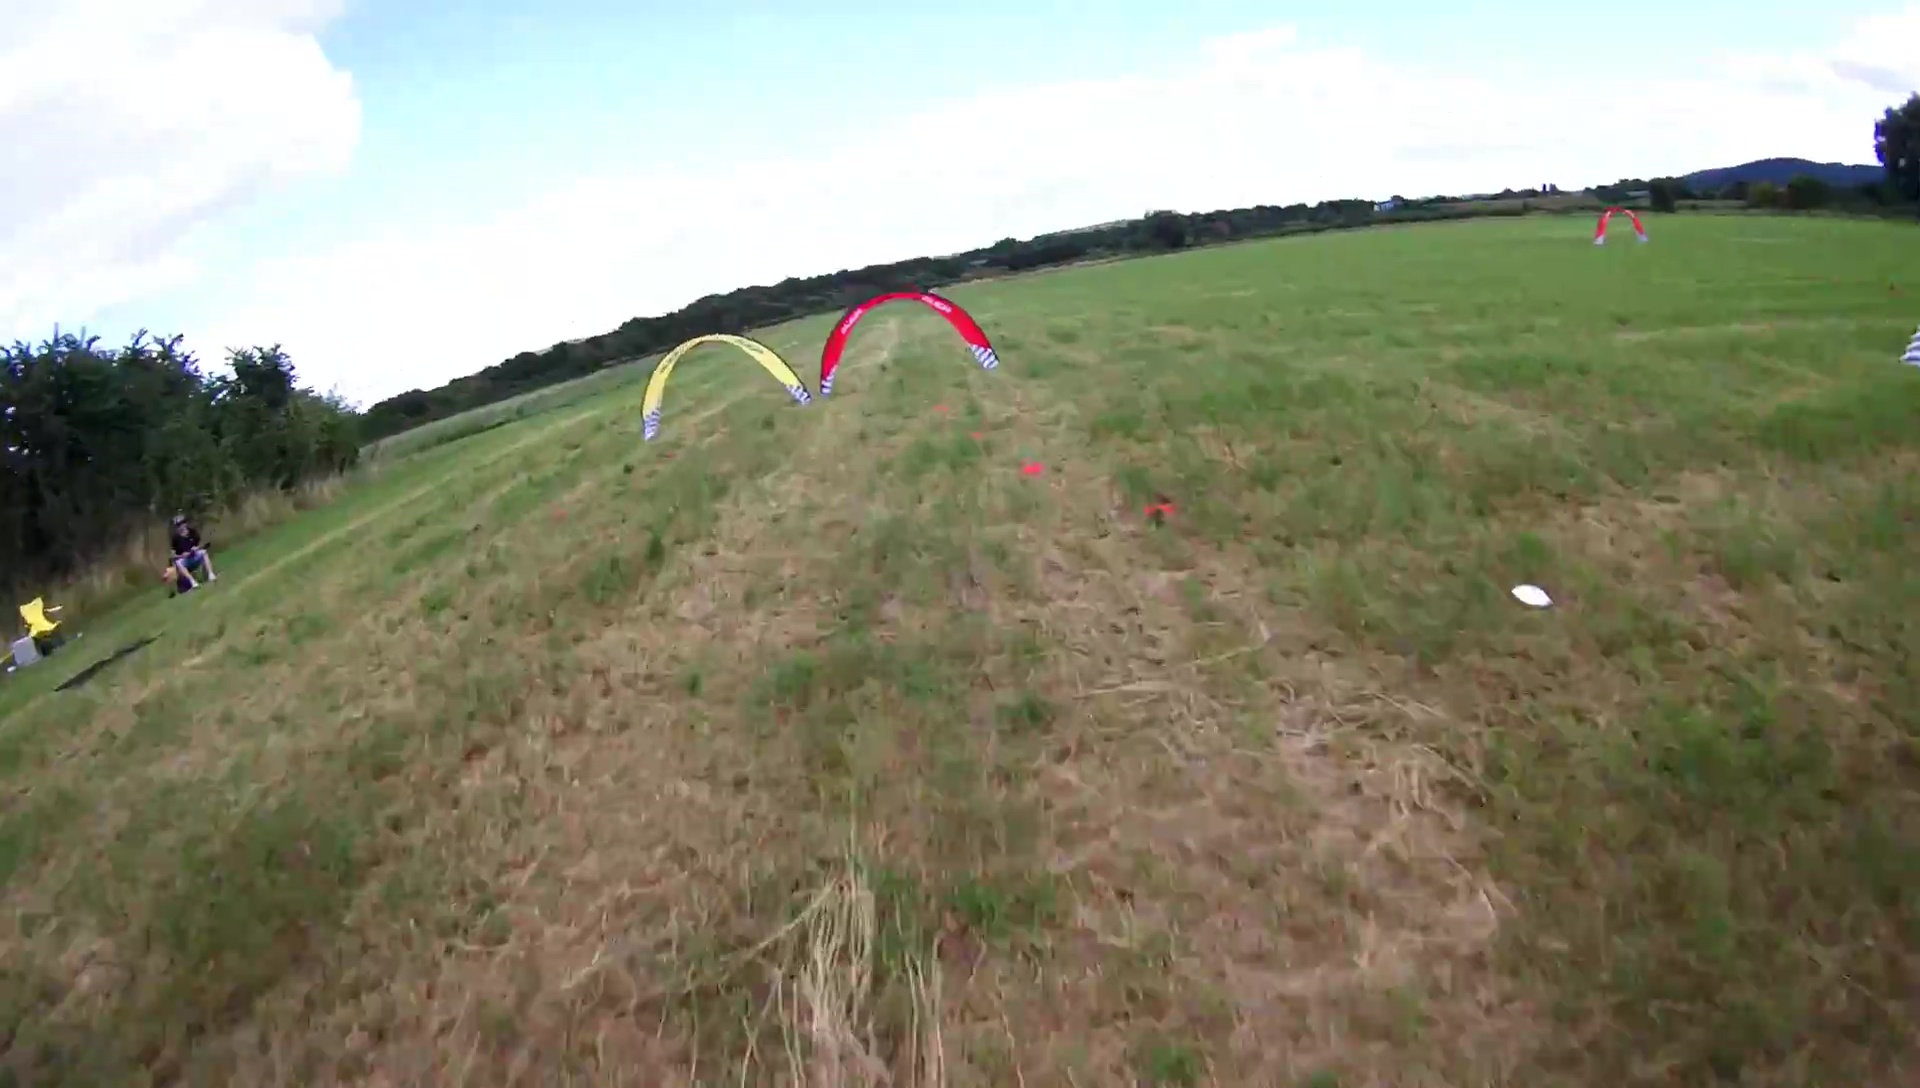gate: (818, 287, 1001, 398), (636, 331, 814, 440), (1592, 204, 1648, 247)
